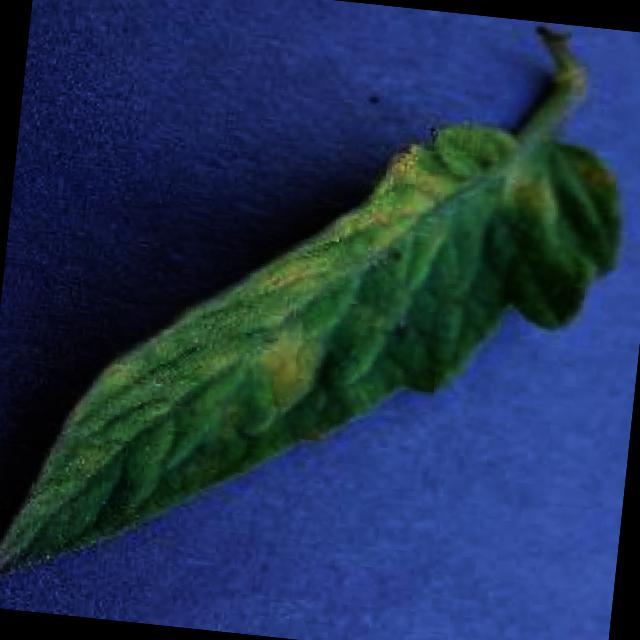Tomato mold leaf: (0, 75, 631, 640)
